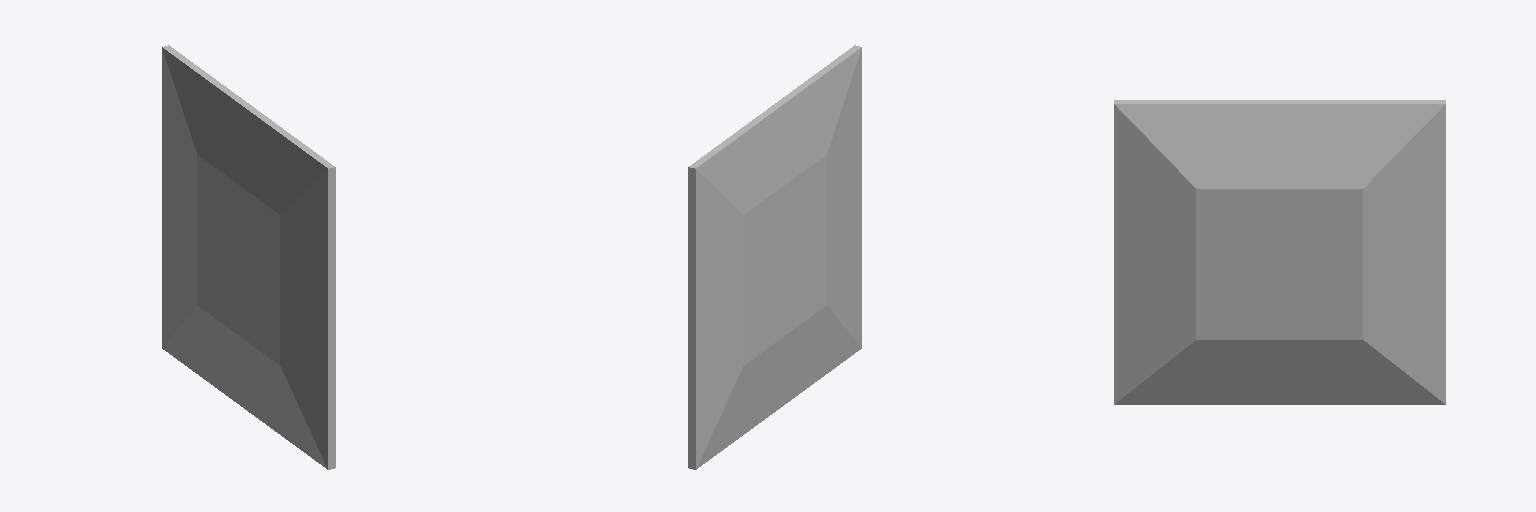
Rendered from 0205_3D_3Board.obj.
The picture shows the model from 3 angles: view 1: azimuth 30°, elevation 25°; view 2: azimuth 150°, elevation 25°; view 3: azimuth 270°, elevation 25°; orthographic projection.
Parts seen in each view (by area): view 1: 立方体; view 2: 立方体; view 3: 立方体.
Part boxes in pixels (left/top/right/bottom): 立方体: left=162, top=45, right=335, bottom=469; 立方体: left=688, top=45, right=861, bottom=469; 立方体: left=1114, top=100, right=1445, bottom=404.
Bounding box in the file's own units: 0.24 × 2 × 2.